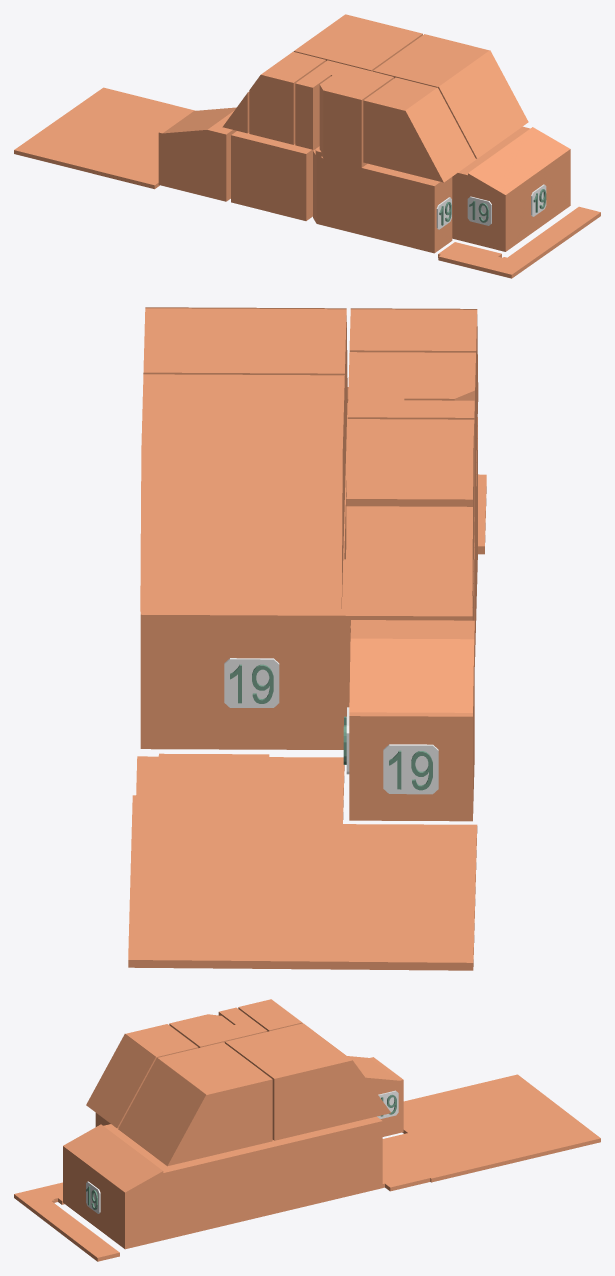
3 renders of one model, top to bottom at view 1: azimuth 30°, elevation 25°; view 2: azimuth 150°, elevation 25°; view 3: azimuth 270°, elevation 25°, orthographic. The views are drawn at different scales.
Parts seen in each view (by area): view 1: g_1, g_13, g_8, g_9, g_4, g_0, g_5, g_7, g_6, g_2, g_11, g_10 (+4 smaller); view 2: g_13, g_7, g_0, g_5, g_8, g_12, g_6, g_9, g_10, g_11, g_18, g_27; view 3: g_1, g_13, g_8, g_7, g_0, g_9, g_14, g_5, g_10, g_6, g_15, g_11.
Boxes of the visible parts, x1,y1,x2,y2 form: g_1: (452,126,570,251); g_13: (14,87,194,189); g_8: (373,34,528,158); g_9: (363,77,475,182); g_4: (364,164,452,253); g_0: (231,131,319,220); g_5: (158,107,236,201); g_7: (293,14,422,71); g_6: (249,51,325,144); g_2: (313,146,369,235); g_11: (319,75,374,162); g_10: (295,60,393,149); g_13: (128,753,477,970); g_7: (140,374,344,612); g_0: (140,541,474,749); g_5: (349,620,474,821); g_8: (143,307,347,487); g_12: (345,506,472,613); g_6: (346,419,474,583); g_9: (349,308,478,474); g_10: (347,352,474,534); g_11: (404,352,475,514); g_18: (383,744,438,794); g_27: (224,658,279,707); g_1: (63,1124,305,1249); g_13: (382,1074,600,1191); g_8: (118,1042,272,1166); g_7: (225,1023,390,1140); g_0: (300,1116,382,1206); g_9: (86,1024,198,1128); g_14: (29,1201,119,1261); g_5: (347,1056,403,1136); g_10: (181,1007,267,1047); g_6: (238,999,302,1031); g_15: (14,1182,64,1209); g_11: (169,1014,233,1034).
Size of the model in its own units: 15.09 by 5.36 by 20.4.
